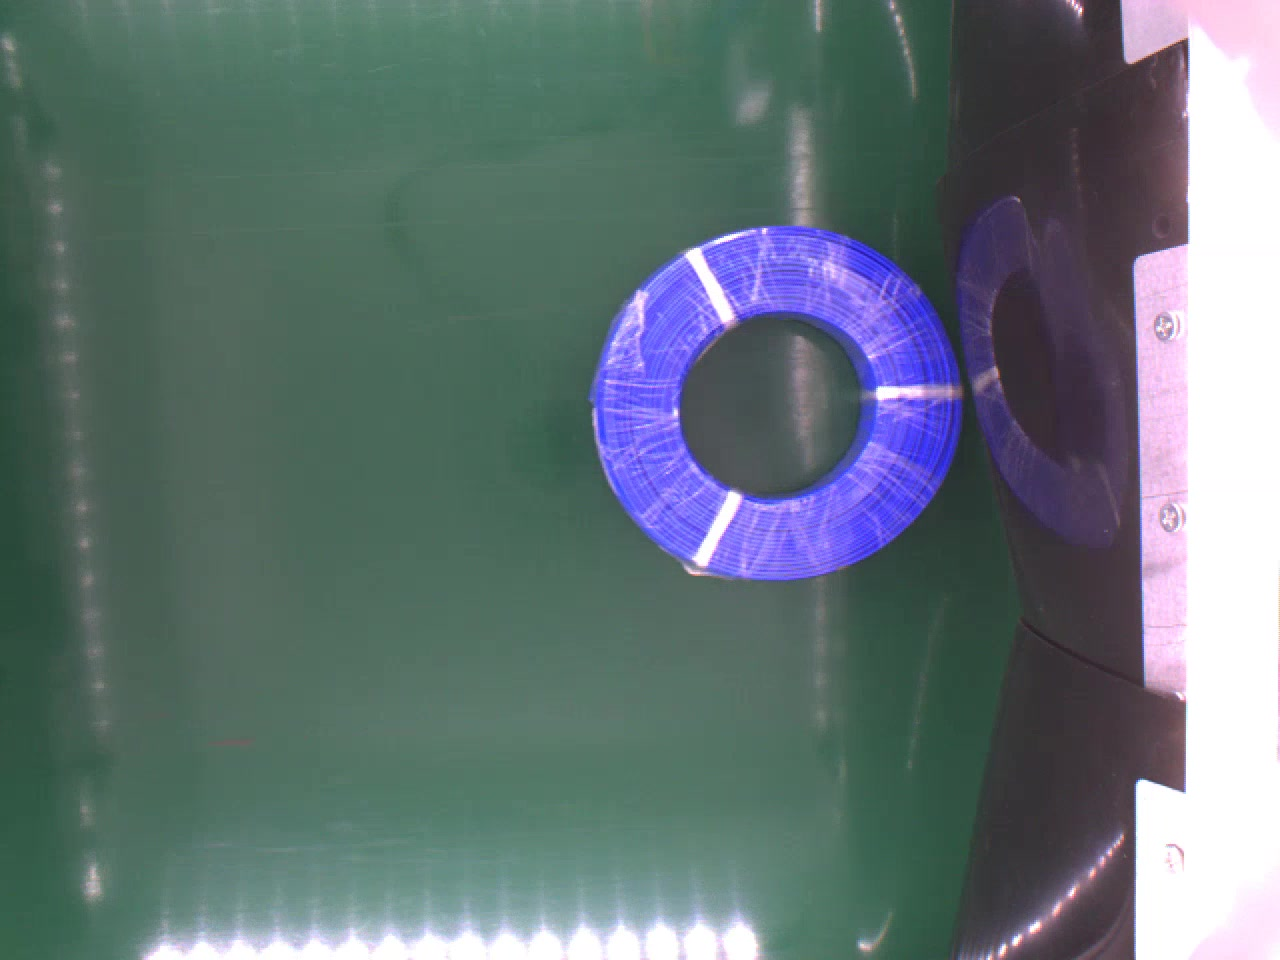blue: (593, 218, 958, 577)
